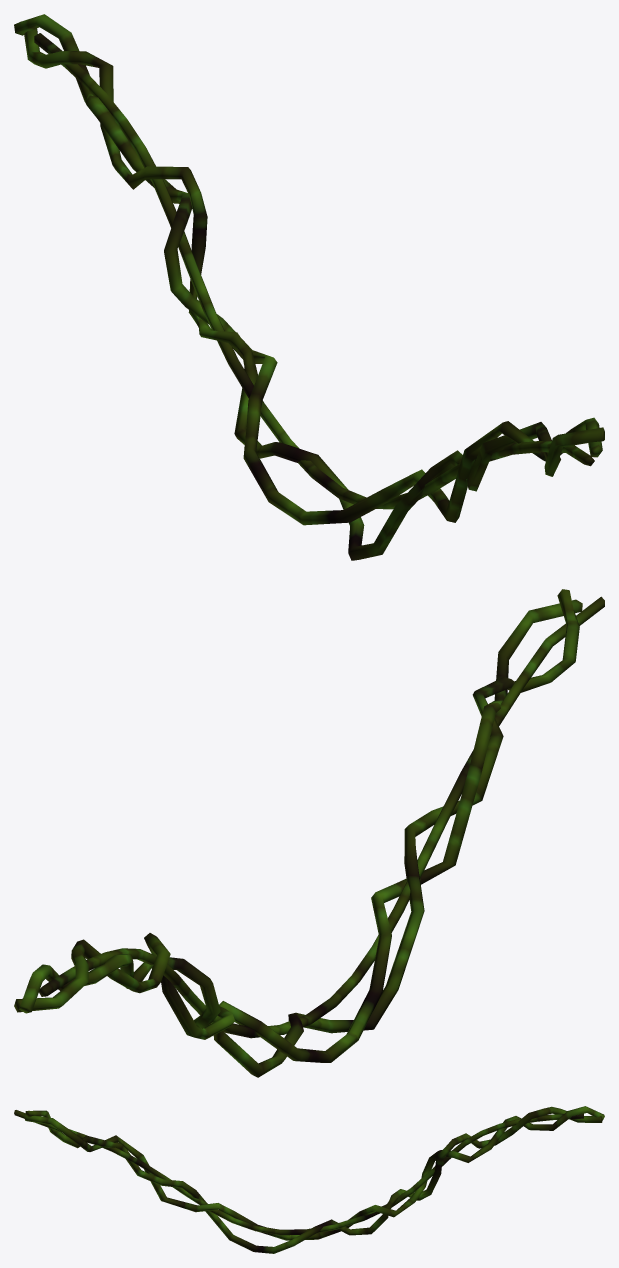
The model's file is Lianes_4.fbx.
3 views of the same model, one above another, from view 1: azimuth 30°, elevation 25°; view 2: azimuth 150°, elevation 25°; view 3: azimuth 270°, elevation 25° (orthographic). The views are drawn at different scales.
Visible parts, largest first — view 1: Lianes; view 2: Lianes; view 3: Lianes.
Part boxes in pixels (x1,y1,x2,y2): Lianes: (14,14,604,560); Lianes: (14,589,604,1077); Lianes: (14,1106,604,1253).
Size of the model in its own units: 30.85 by 124 by 445.
